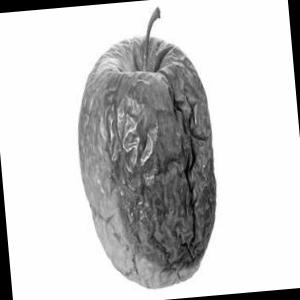fruit: (51, 15, 232, 296)
